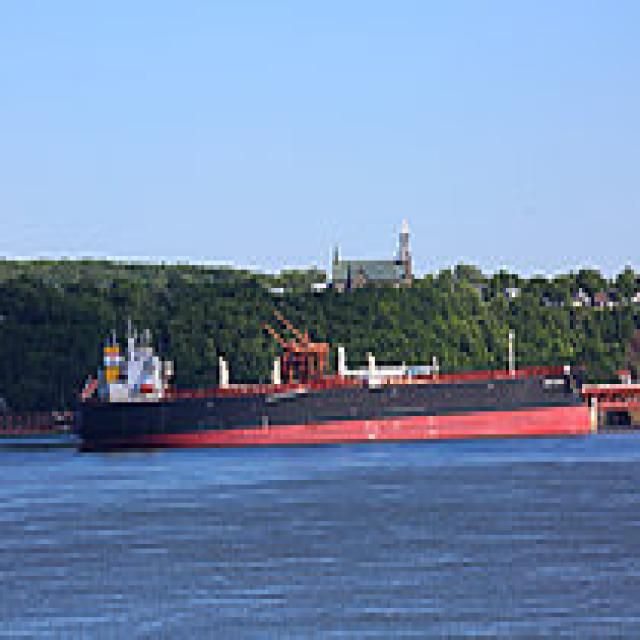Tanker: (67, 302, 591, 448)
